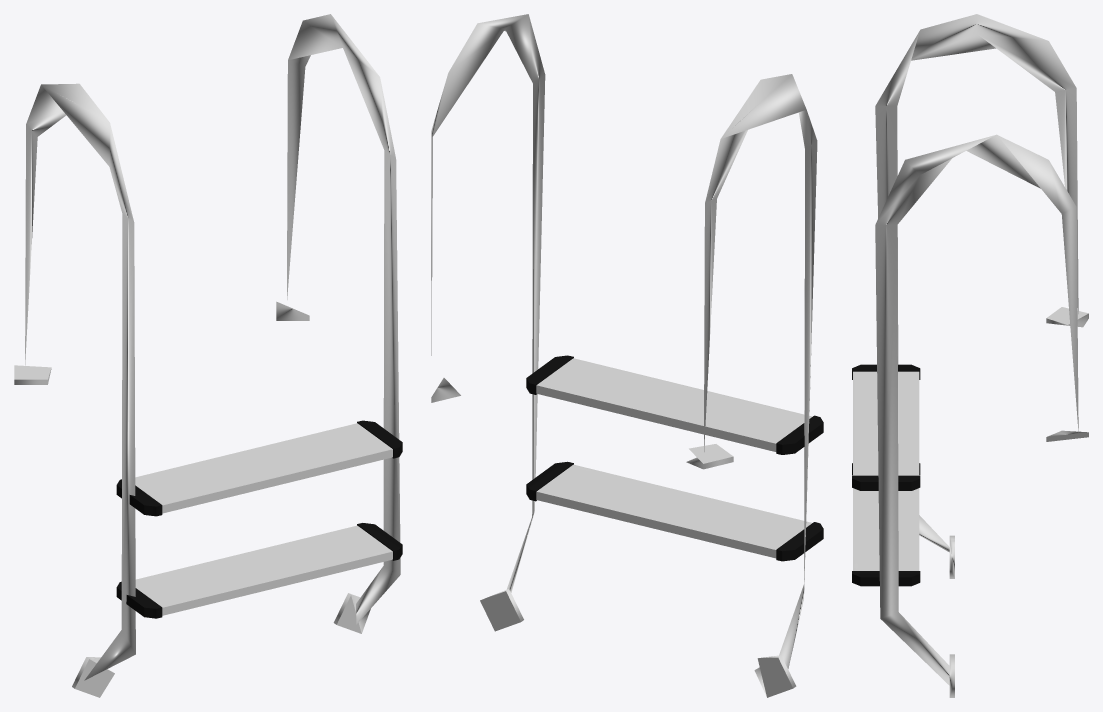
File: pool-ladder.lod1.glb
The picture shows the model from 3 angles, left to right: view 1: azimuth 30°, elevation 25°; view 2: azimuth 150°, elevation 25°; view 3: azimuth 270°, elevation 25°; orthographic projection. The views are drawn at different scales.
Visible parts, largest first — view 1: PoolLadder3_Material #27_0; view 2: PoolLadder3_Material #27_0; view 3: PoolLadder3_Material #27_0.
Boxes of the visible parts, x1,y1,x2,y2 form: PoolLadder3_Material #27_0: (14, 14, 402, 697); PoolLadder3_Material #27_0: (431, 14, 823, 697); PoolLadder3_Material #27_0: (852, 14, 1088, 697).
Size of the model in its own units: 0.6254 by 1.2 by 0.4574.
1 material, 1 textured.
